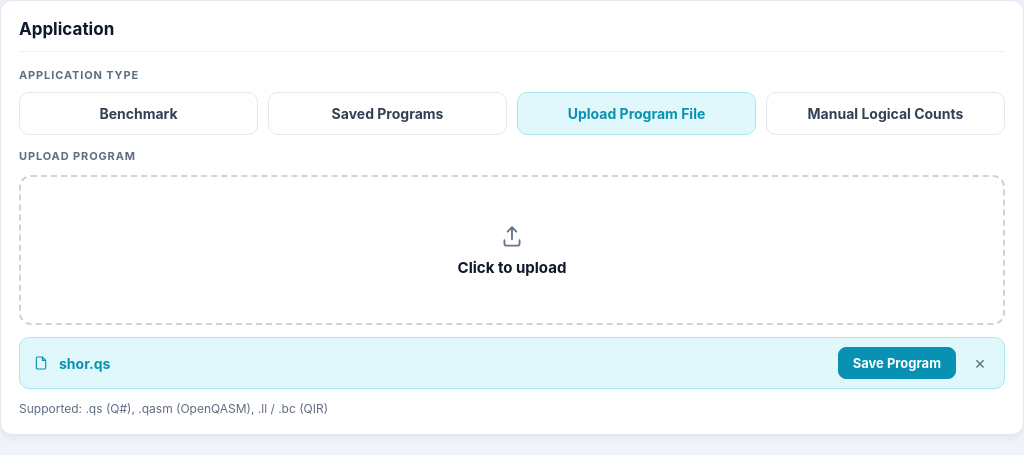
Test case: upload pill › flashes a popup when Save targets a program already in the library
This screenshot has width=1024, height=455.
Click the button "Save Program" at (897, 363), box [838, 347, 956, 379]
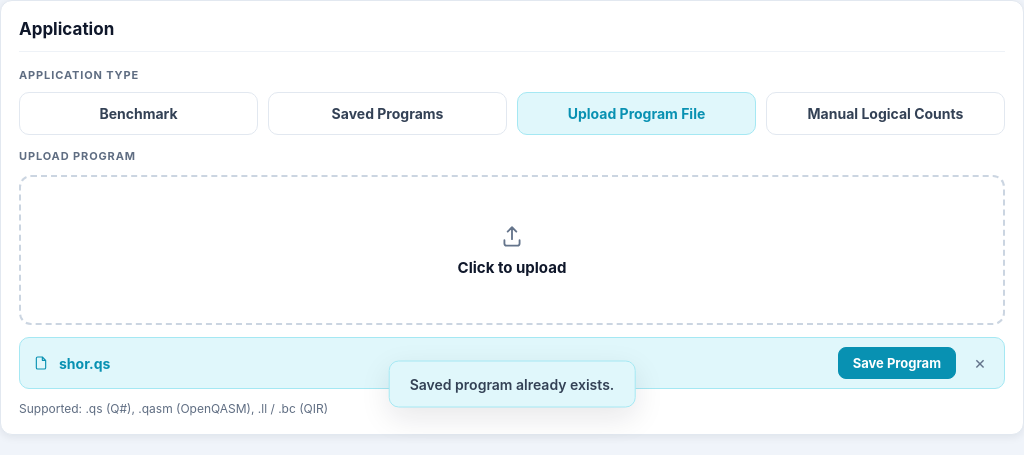
Check: the message shows "Saved program already exists", box [410, 376, 614, 392]
